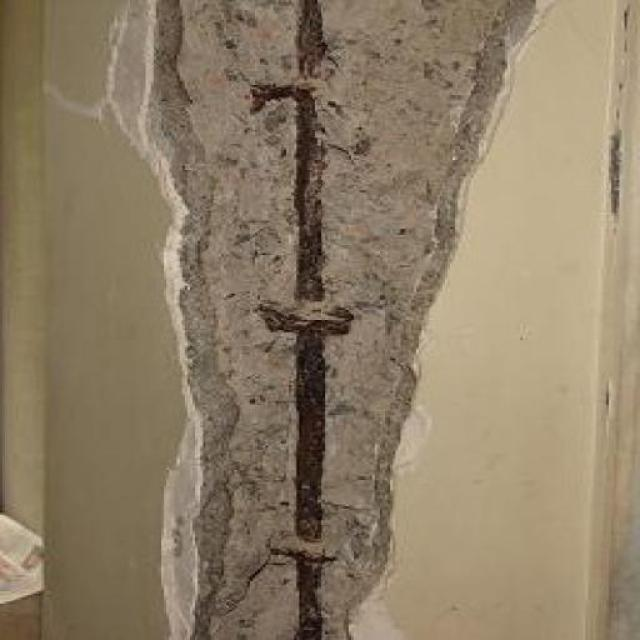D0w0: (154, 0, 538, 639)
